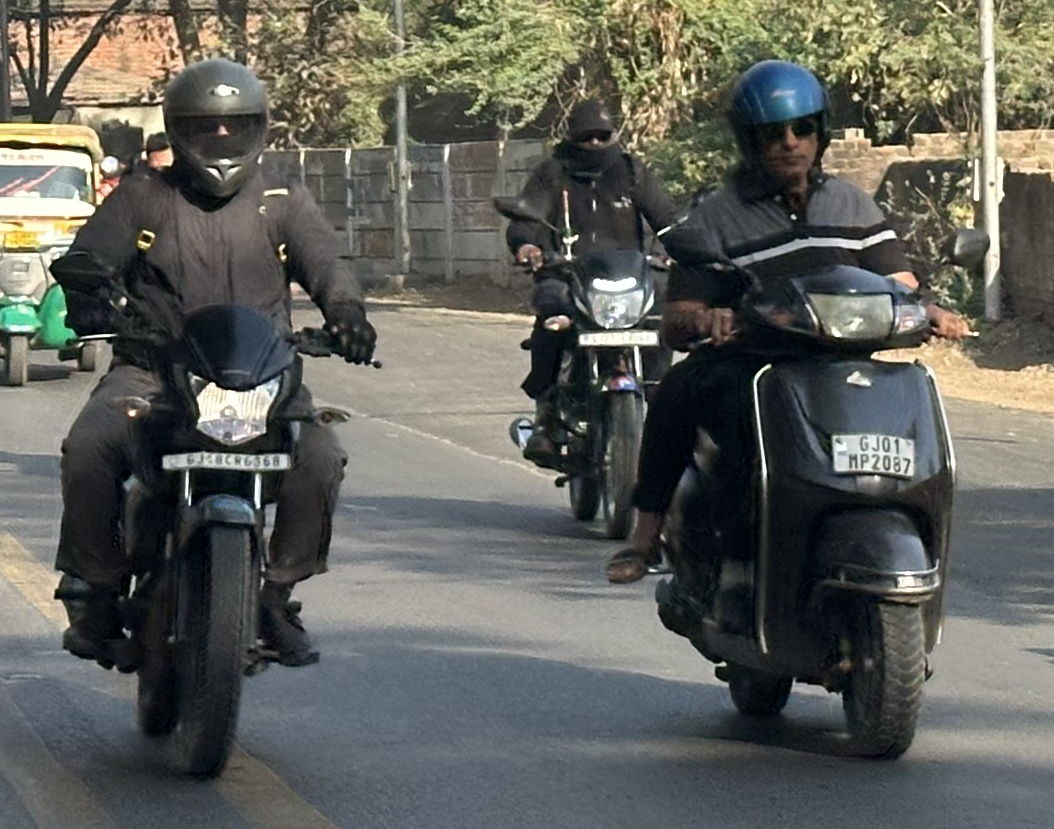BikeWithRider: (607, 50, 993, 762), (39, 53, 387, 791), (487, 90, 689, 549)
Helmet: (148, 53, 286, 203), (715, 55, 846, 188)
NoHelmet: (546, 95, 635, 173)
